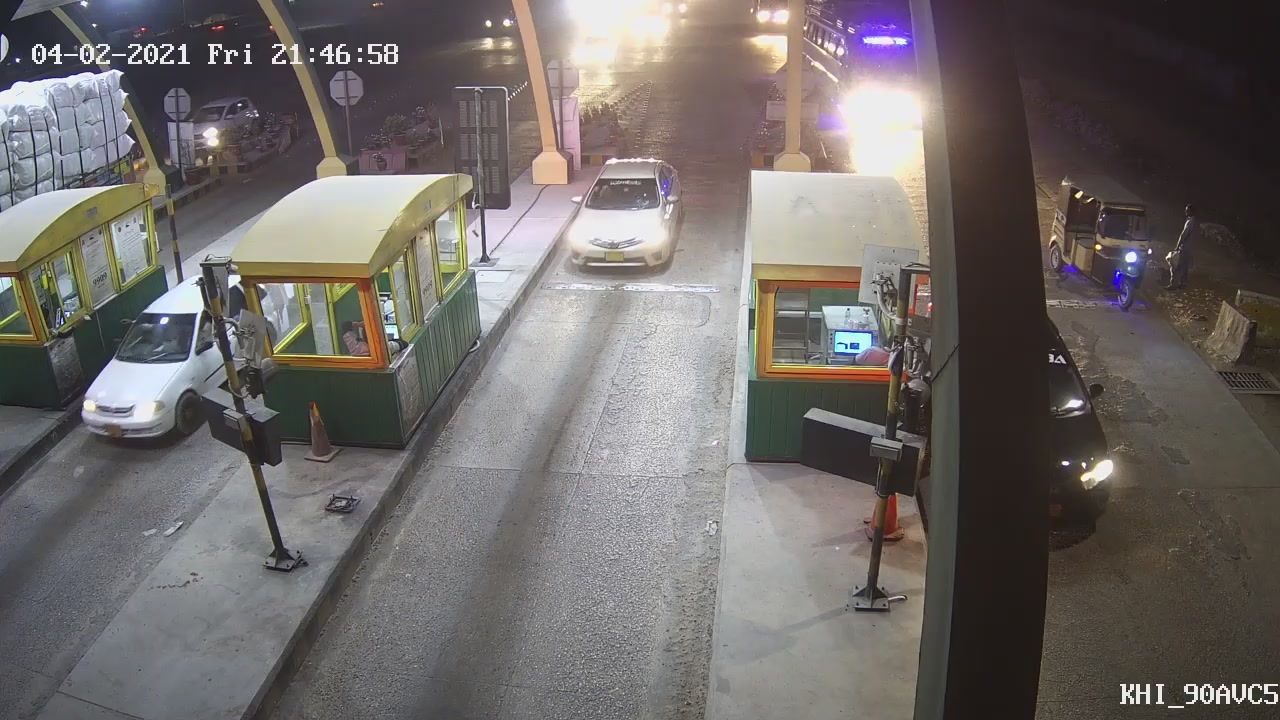F1: (565, 153, 691, 285)
